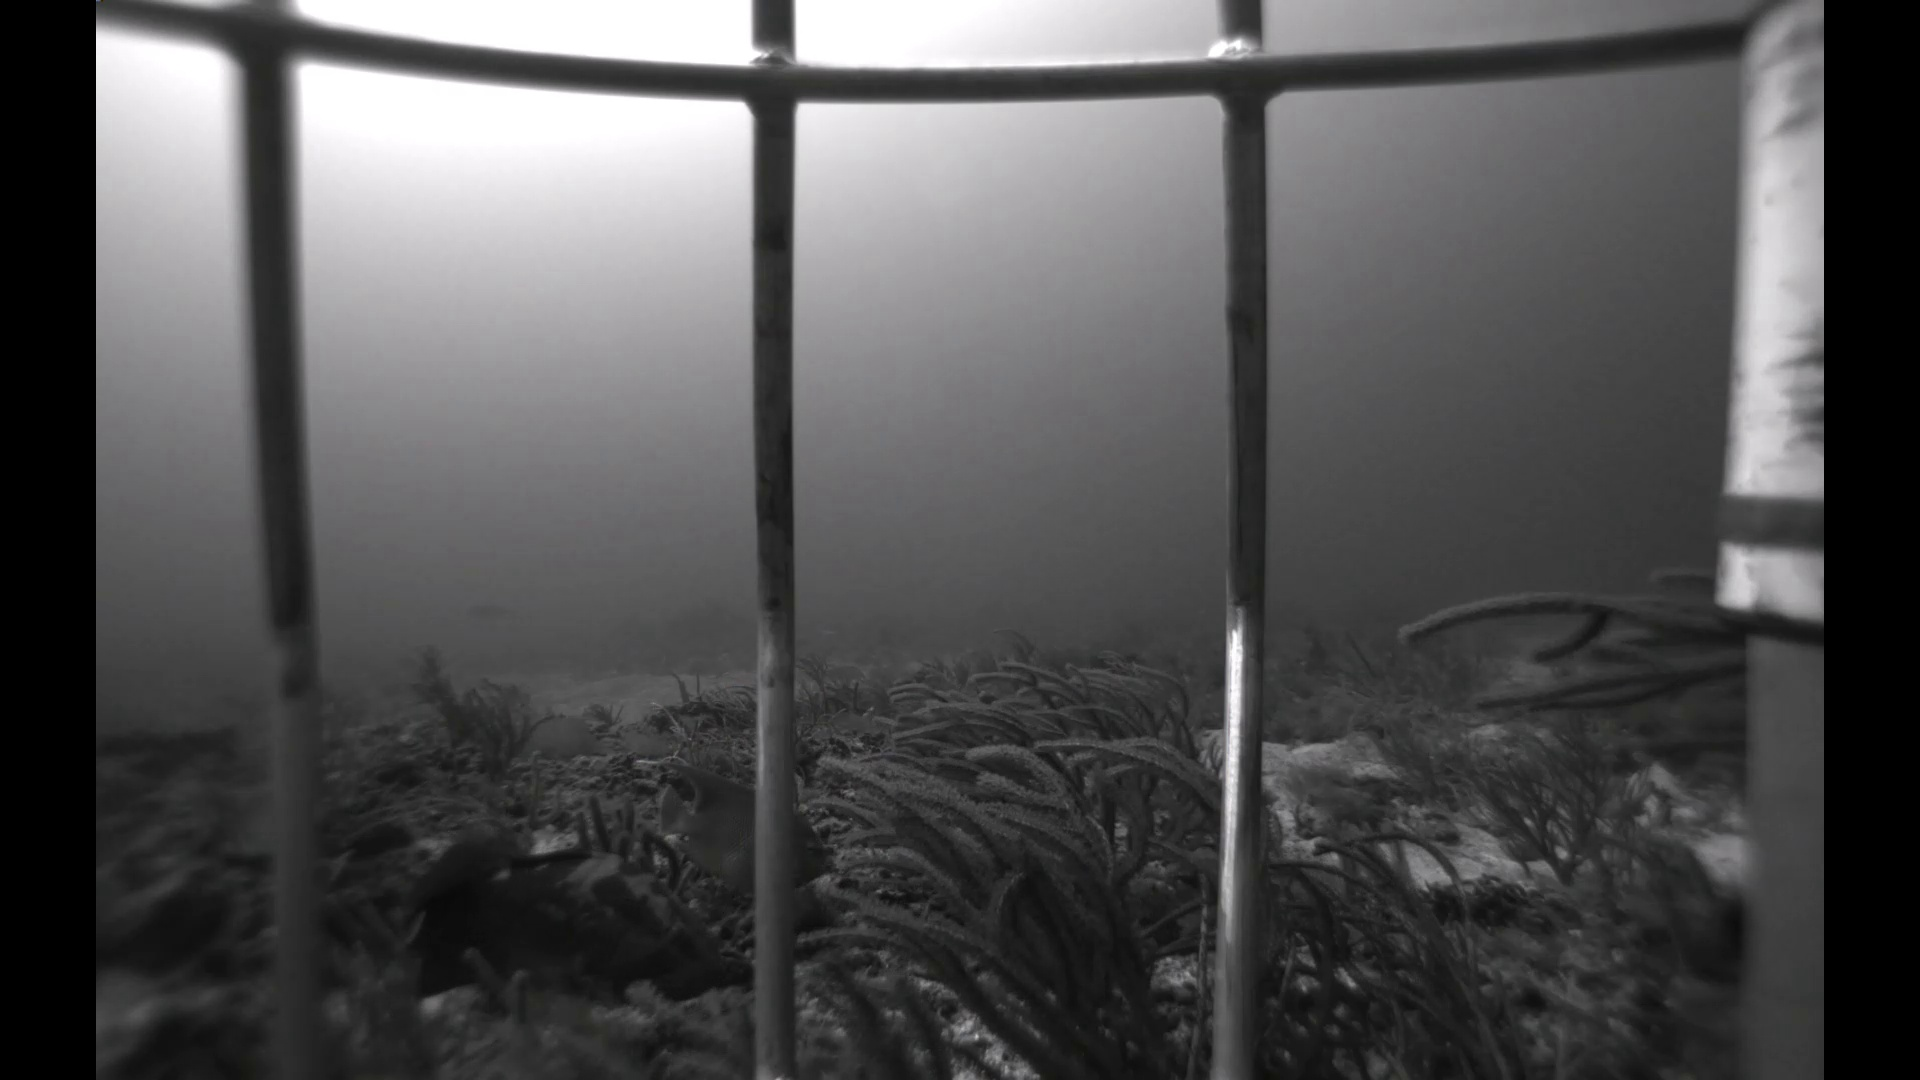CHAETODONOCELLATUS-170260307: (207, 775, 344, 866)
EPINEPHELUSMORIO-170021211: (381, 814, 732, 1040)
HOLACANTHUSBERMUDENSIS-170290102: (636, 748, 845, 901)
HYPOPLECTRUS-170021500: (1712, 893, 1750, 969)
IOGLOSSUS-170550800: (1189, 603, 1215, 618), (818, 625, 841, 640), (713, 650, 731, 662), (560, 670, 574, 684), (720, 669, 732, 678)
PAGRUSPAGRUS-170212302: (444, 589, 530, 634)
